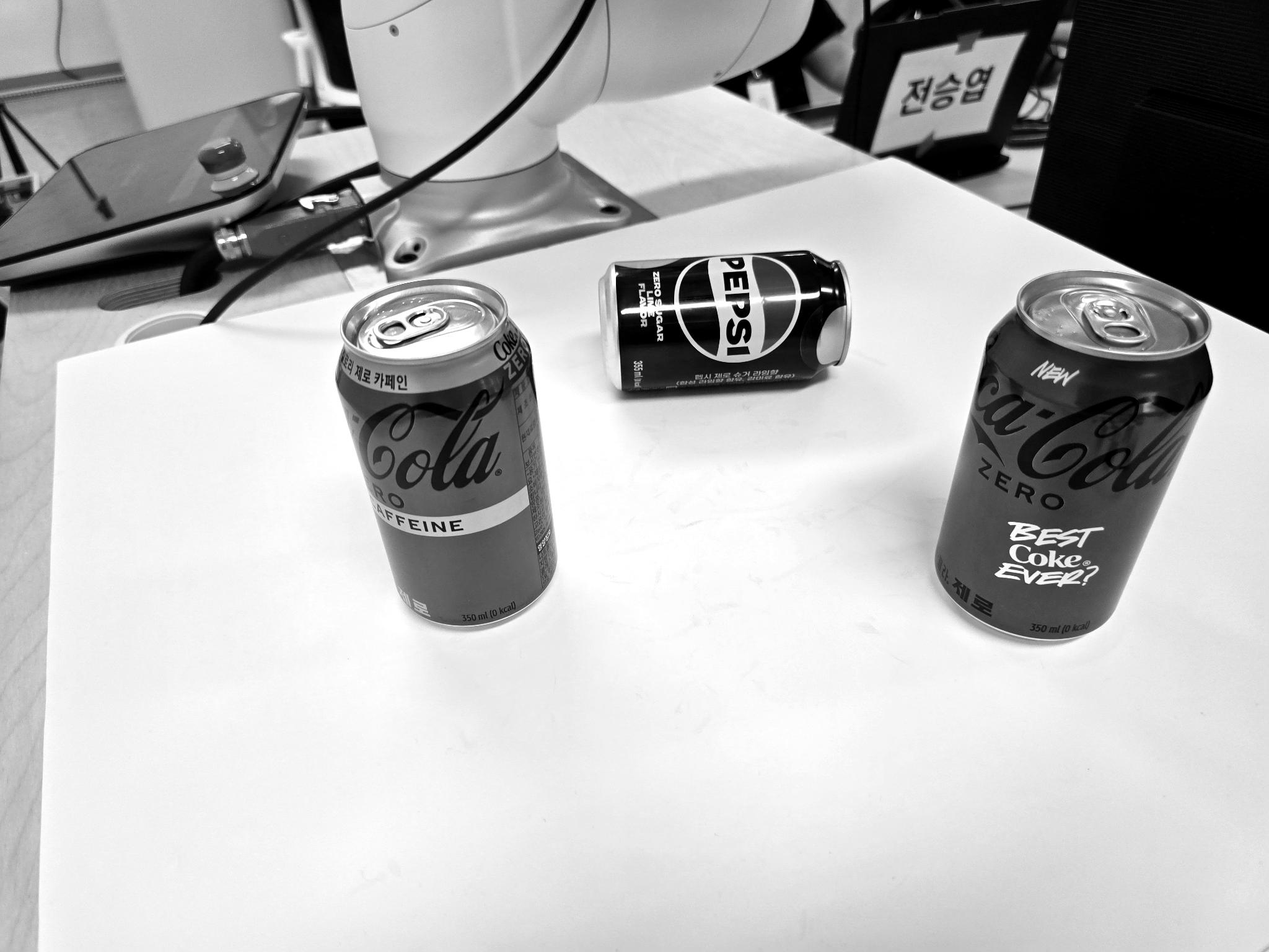can_coke_decaf: (334, 275, 569, 636)
can_coke_zero: (925, 267, 1223, 650)
can_pepsi_zero: (591, 240, 851, 404)
